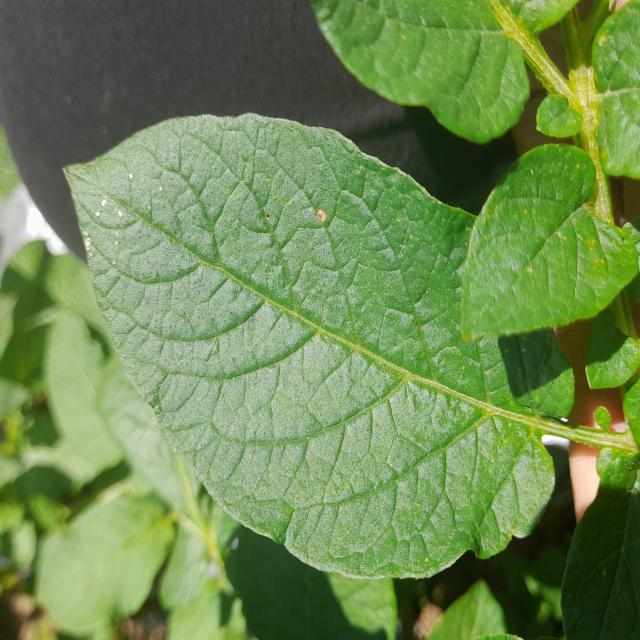healthy: (61, 110, 575, 583)
